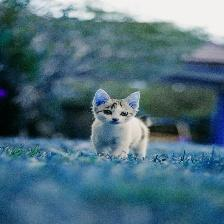kedo: (93, 88, 148, 158)
